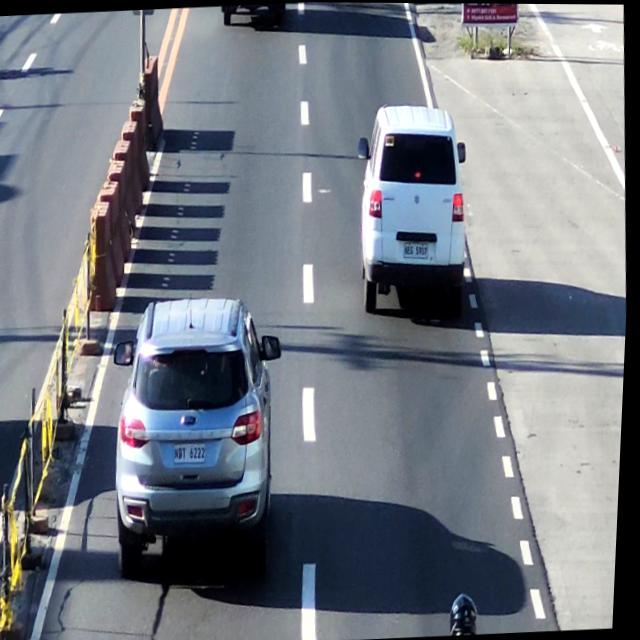Car: (114, 294, 289, 556), (356, 100, 480, 312)
License-Plate: (175, 436, 211, 472), (403, 236, 437, 263)
Motorcycle: (448, 591, 484, 635)
